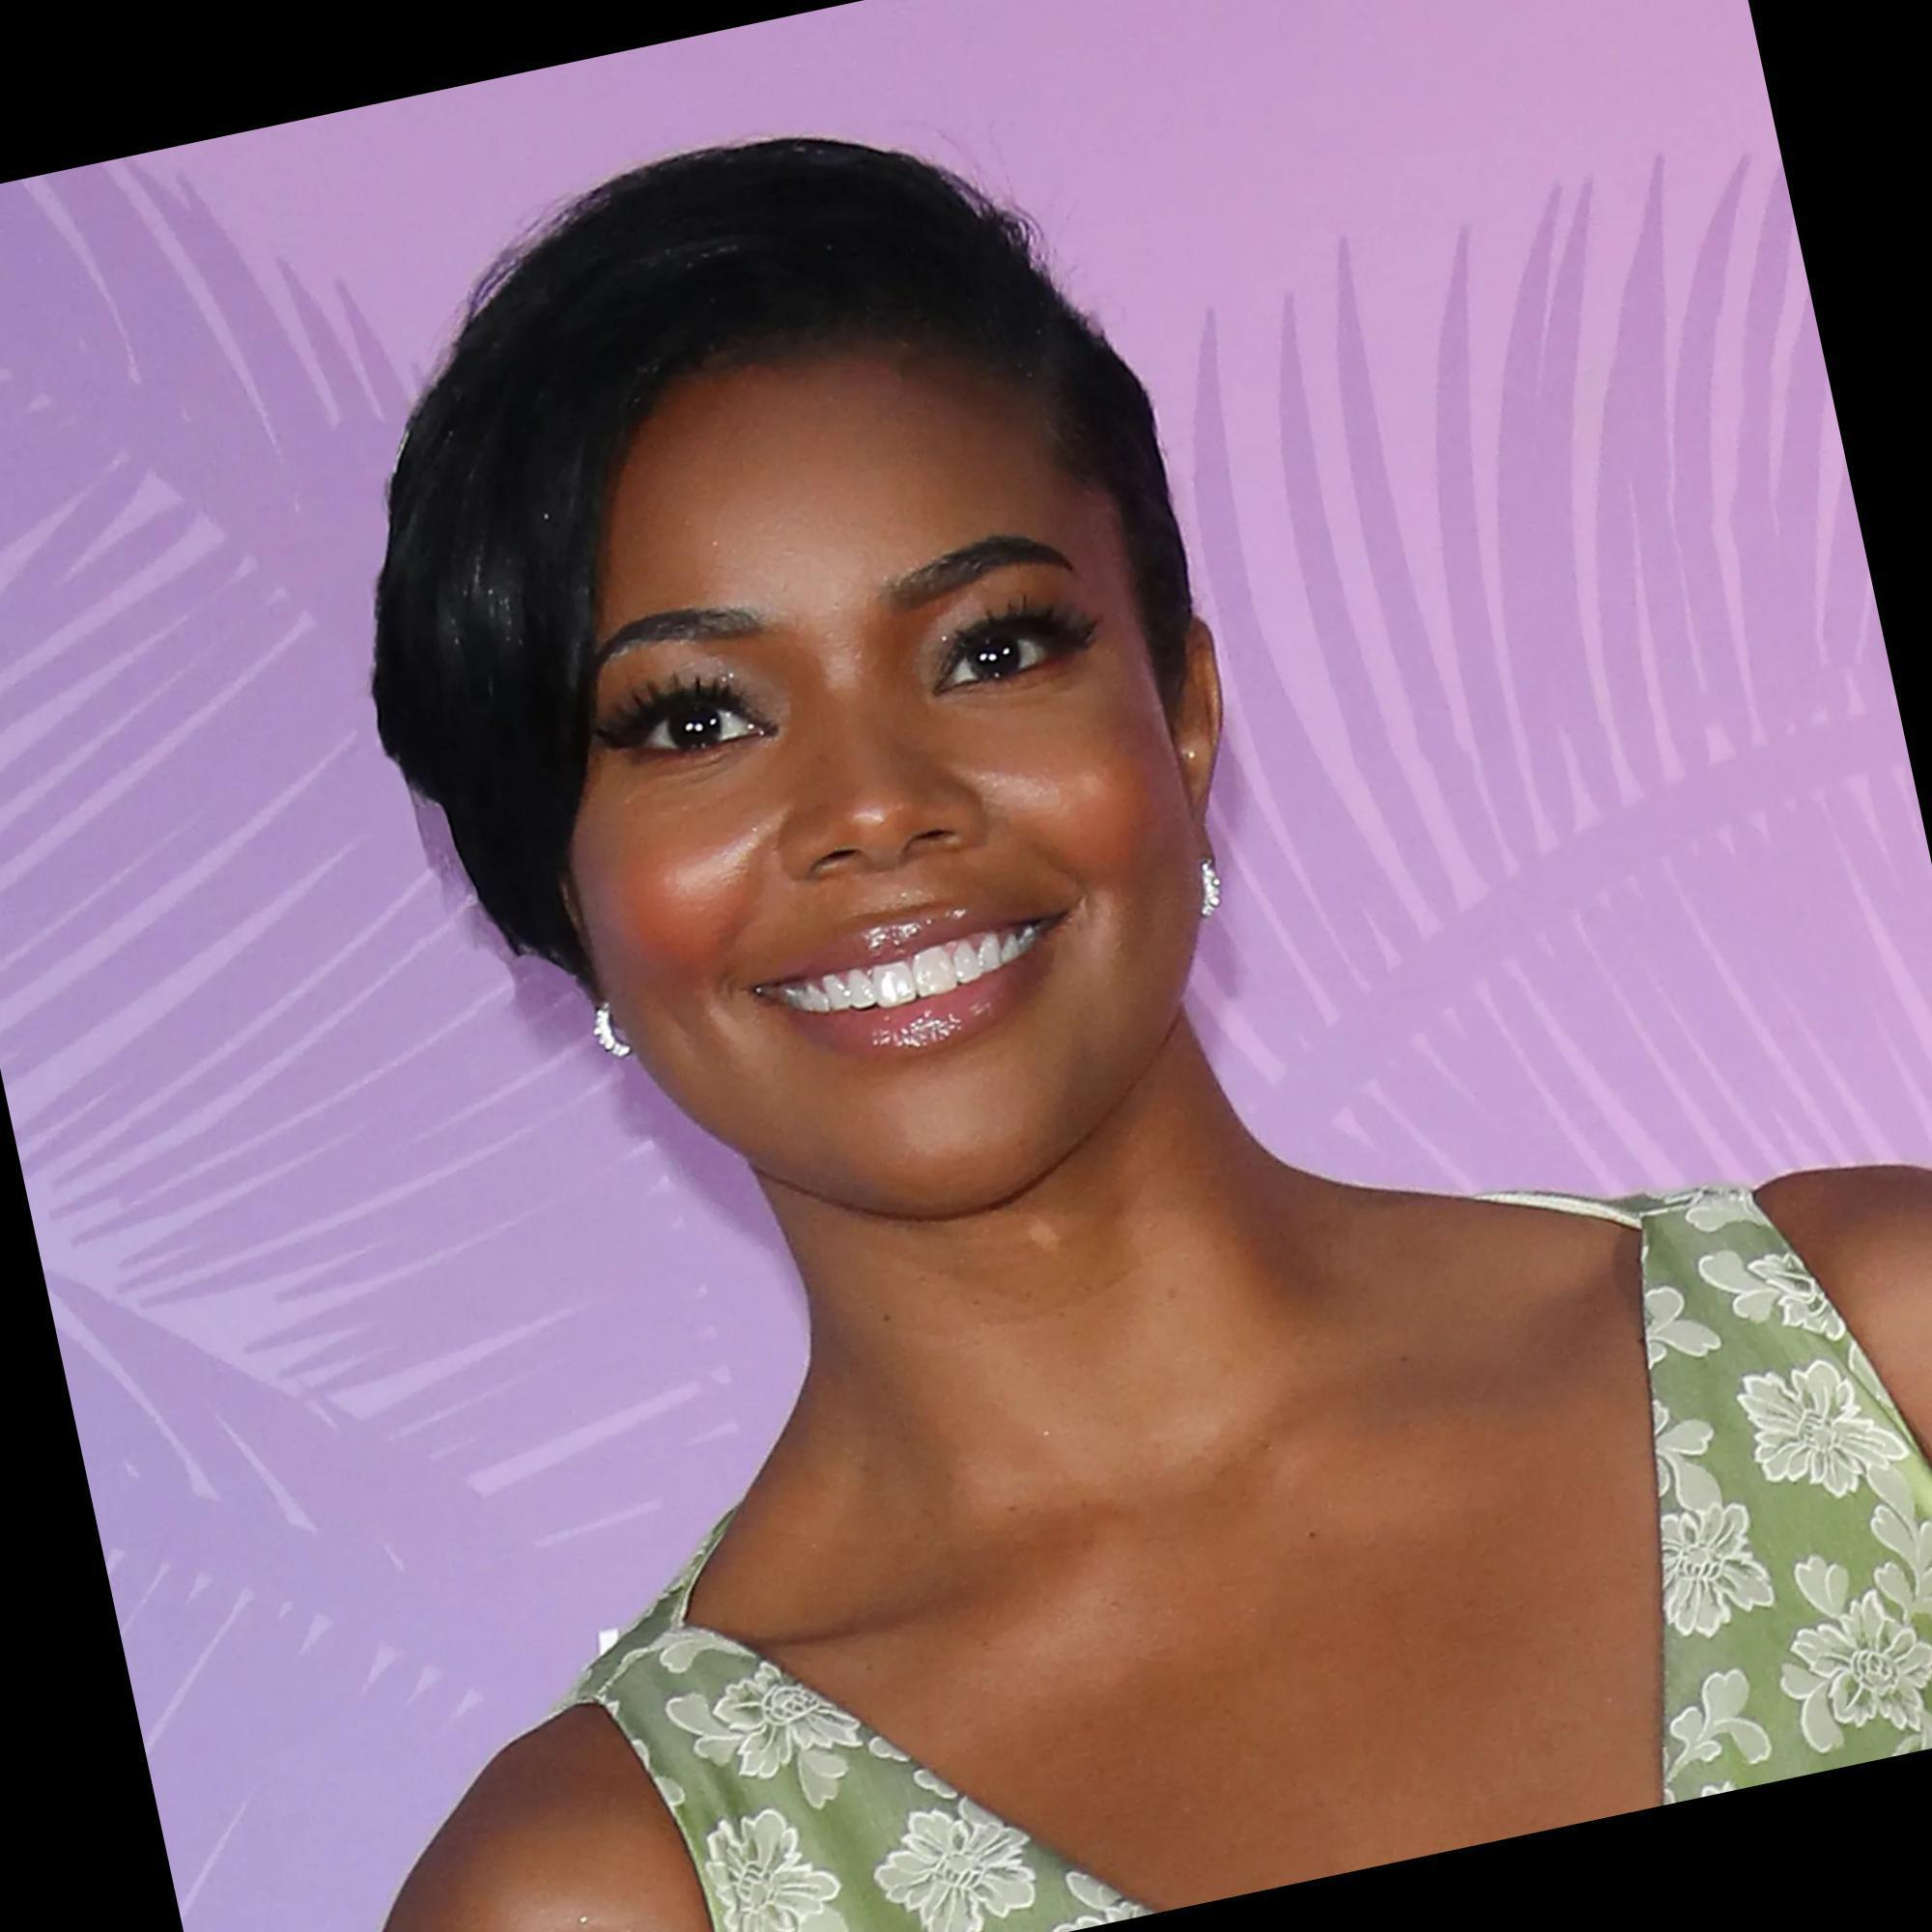Sober: (533, 421, 1185, 1191)
